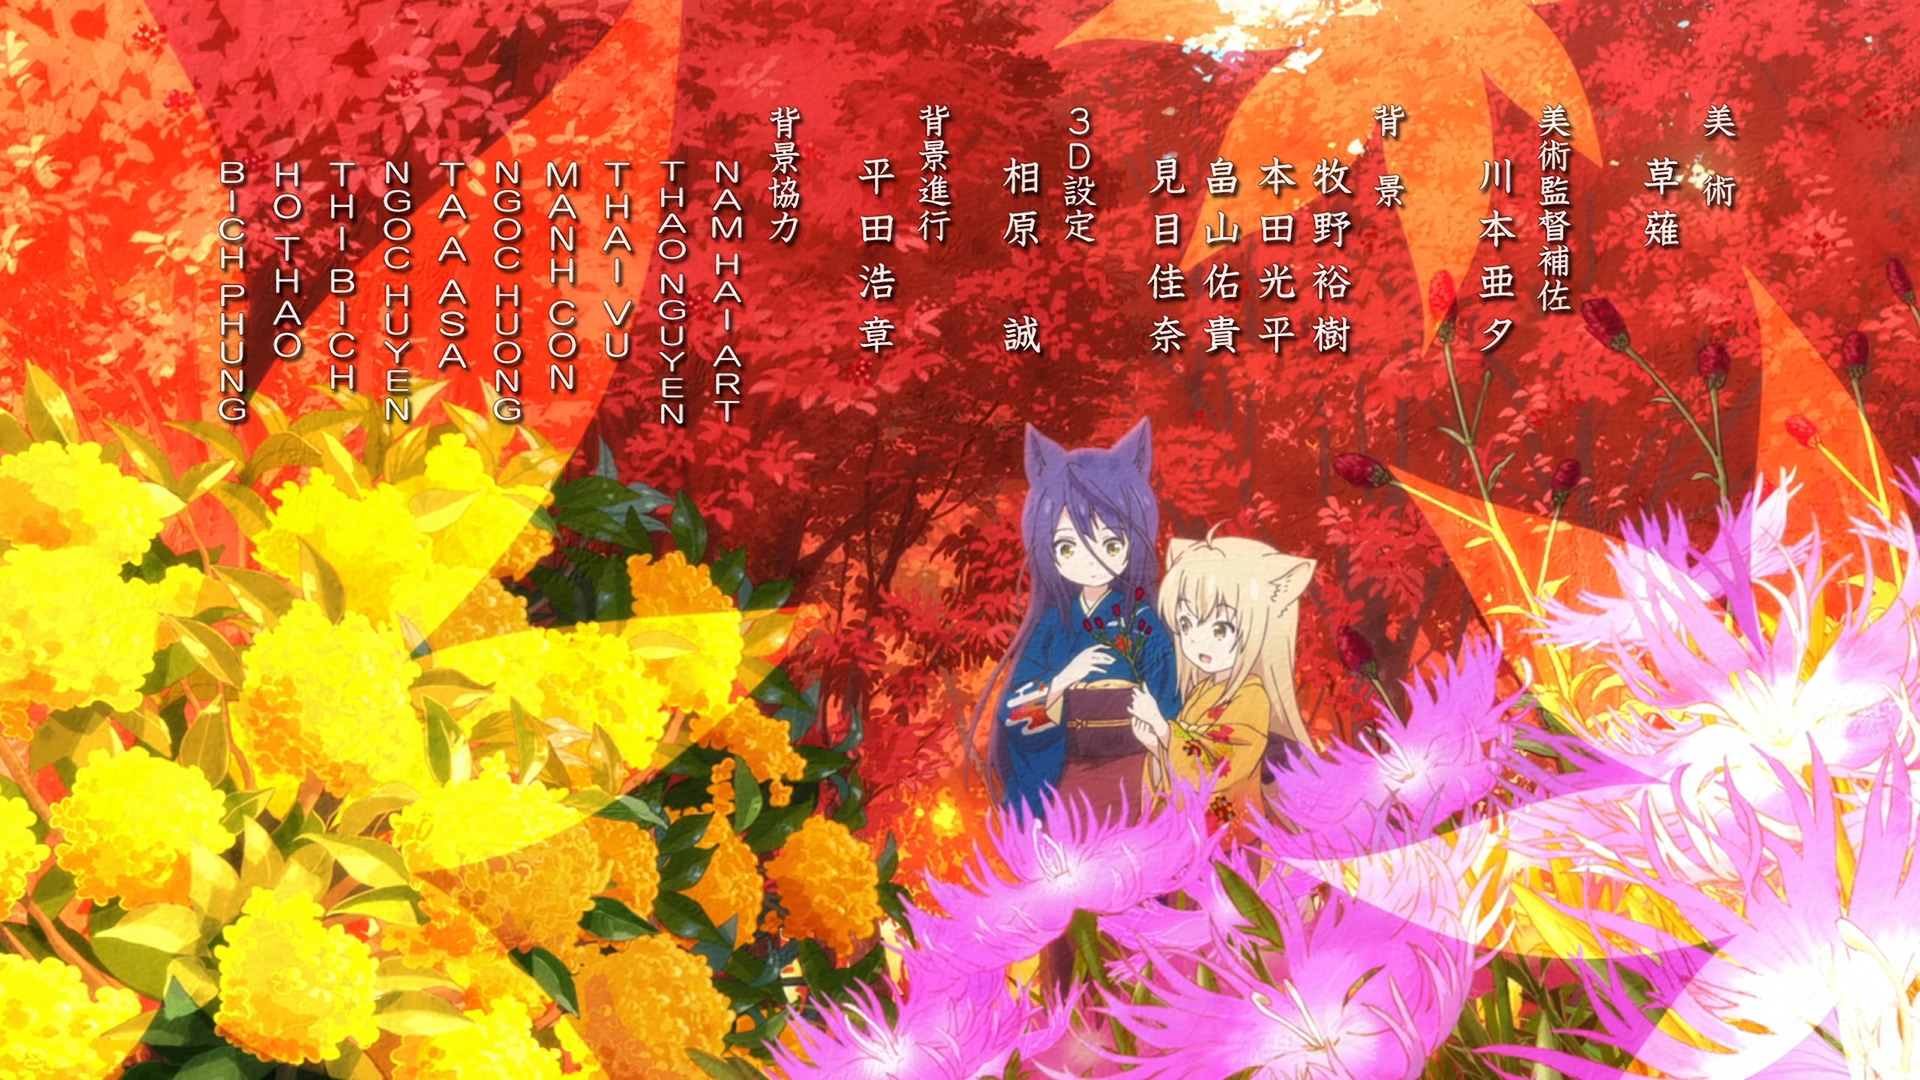柚: (1127, 520, 1365, 997)
皋: (963, 417, 1182, 1023)
